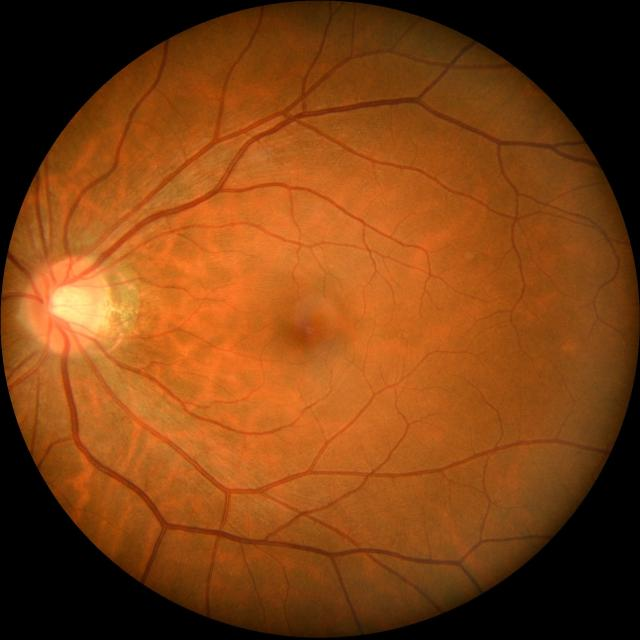OC: (51, 284, 90, 325)
OD: (24, 257, 111, 352)
